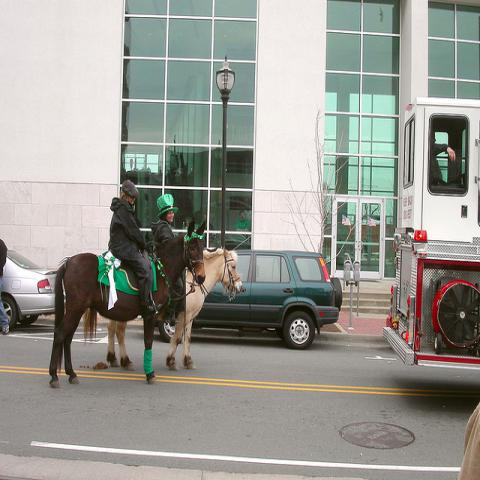car: (194, 250, 342, 350), (1, 248, 60, 326)
truck: (384, 94, 479, 370)
